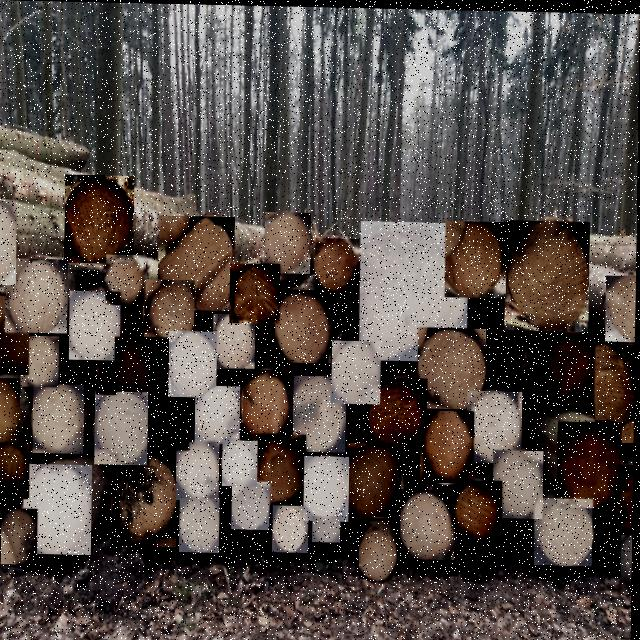wood-log: (360, 219, 470, 360), (505, 218, 591, 332), (158, 215, 236, 310), (25, 464, 94, 555), (65, 174, 135, 263), (114, 454, 179, 546), (418, 325, 487, 408), (558, 419, 623, 506), (446, 219, 508, 296), (6, 258, 69, 333), (366, 376, 429, 450), (539, 326, 600, 401), (276, 288, 333, 362), (294, 374, 348, 451), (348, 441, 404, 515), (468, 388, 524, 461), (596, 342, 636, 443), (536, 495, 595, 563), (96, 391, 150, 465), (421, 408, 475, 481), (402, 487, 456, 558), (115, 336, 170, 405), (254, 433, 307, 504), (244, 368, 295, 440), (34, 384, 86, 454), (70, 290, 122, 360), (494, 448, 545, 517), (169, 330, 218, 397), (332, 339, 382, 403), (145, 279, 196, 341), (230, 262, 281, 323), (456, 478, 504, 542), (305, 454, 351, 520), (265, 211, 312, 273), (196, 385, 242, 444), (177, 442, 221, 500), (214, 313, 257, 370), (0, 296, 31, 375), (316, 237, 360, 292), (361, 521, 402, 578), (181, 497, 221, 552), (2, 508, 39, 565), (107, 254, 148, 305), (606, 273, 637, 339), (22, 335, 61, 387), (152, 397, 190, 449), (233, 480, 271, 529), (609, 462, 635, 532), (274, 503, 311, 552), (0, 443, 31, 499), (223, 439, 259, 486), (0, 378, 22, 448), (0, 201, 18, 285), (314, 515, 342, 541), (98, 360, 118, 394), (622, 532, 634, 578), (0, 494, 1, 533)
